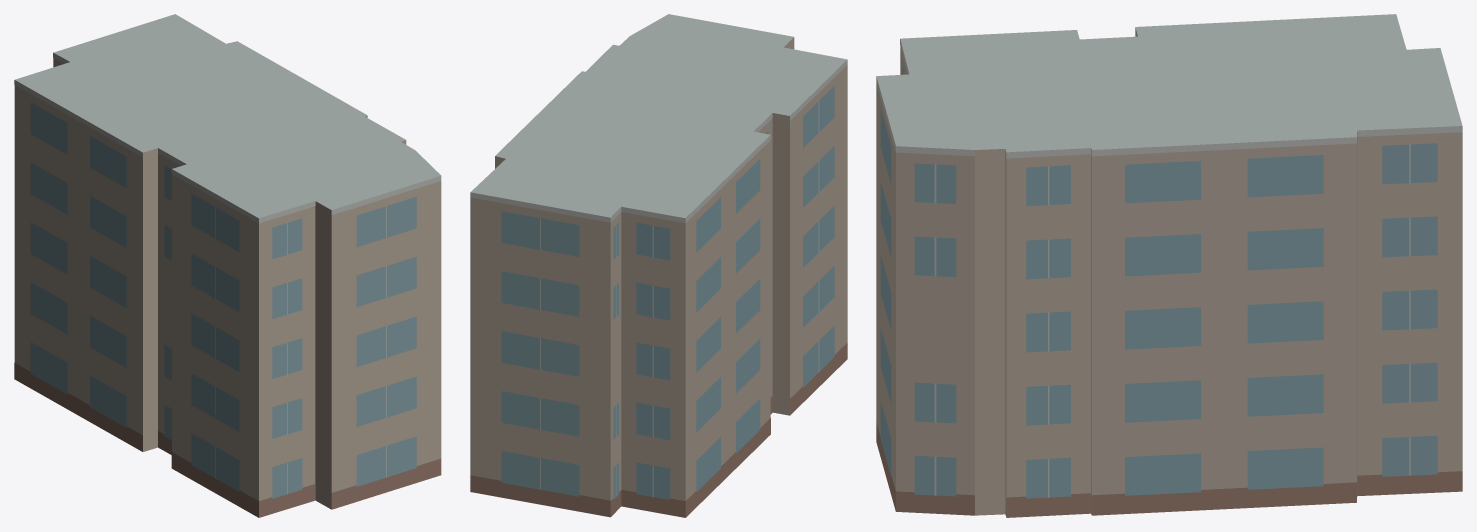
Rendered from survey-upis-33043755.glb.
3 renders of one model, left to right at view 1: azimuth 30°, elevation 25°; view 2: azimuth 150°, elevation 25°; view 3: azimuth 270°, elevation 25°, orthographic. The views are drawn at different scales.
Visible parts, largest first — view 1: survey-upis-33043755.tmp; view 2: survey-upis-33043755.tmp; view 3: survey-upis-33043755.tmp.
Boxes of the visible parts, bbox=[...] form: survey-upis-33043755.tmp: bbox=[14, 14, 441, 517]; survey-upis-33043755.tmp: bbox=[470, 14, 847, 517]; survey-upis-33043755.tmp: bbox=[876, 14, 1462, 517].
Bounding box in the file's own units: 11.53 × 14.2 × 20.65.
